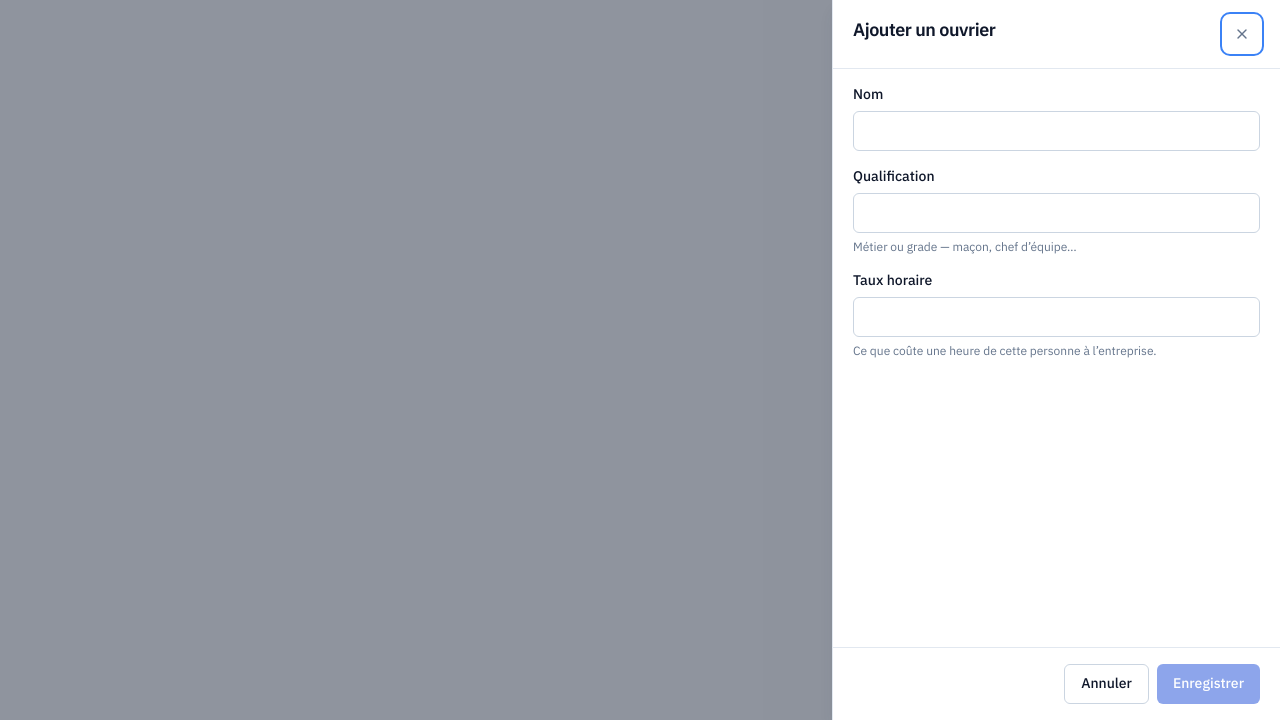
Test: WorkerDrawer, creating › reports a refusal without pretending it was something else
Type "Amina Cherif" into the field labelled "Nom".
click(1056, 131); type("Amina Cherif")  # box [853,111,1260,151]
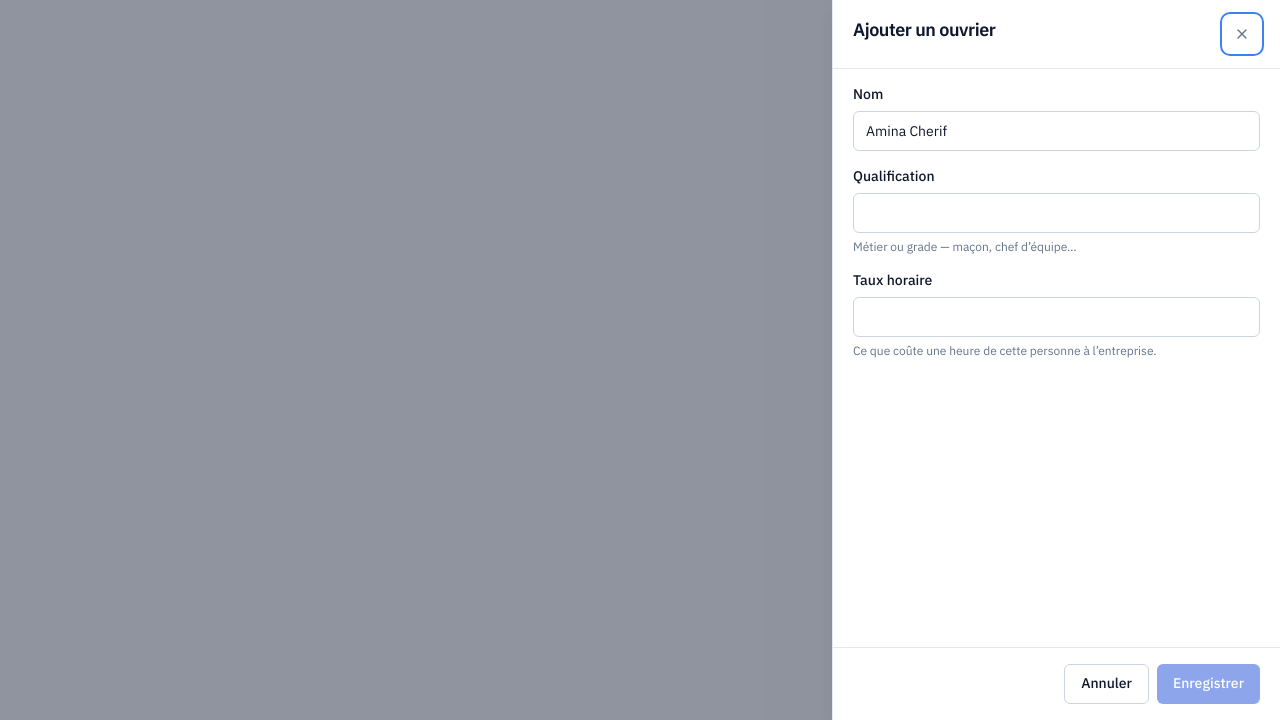
Type "16" into the number field labelled "Taux horaire".
click(1056, 317); type("16")  # box [853,297,1260,337]
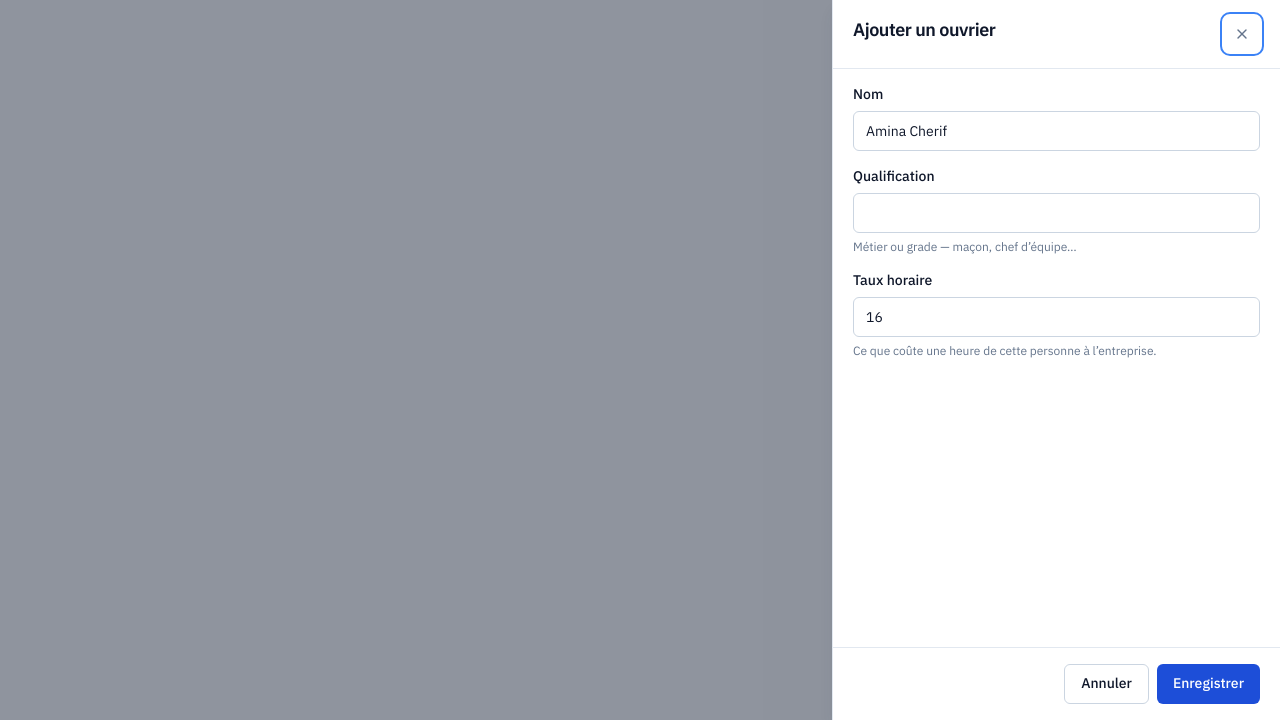
Click the button "Enregistrer".
click(1208, 684)  # box [1157,664,1260,704]
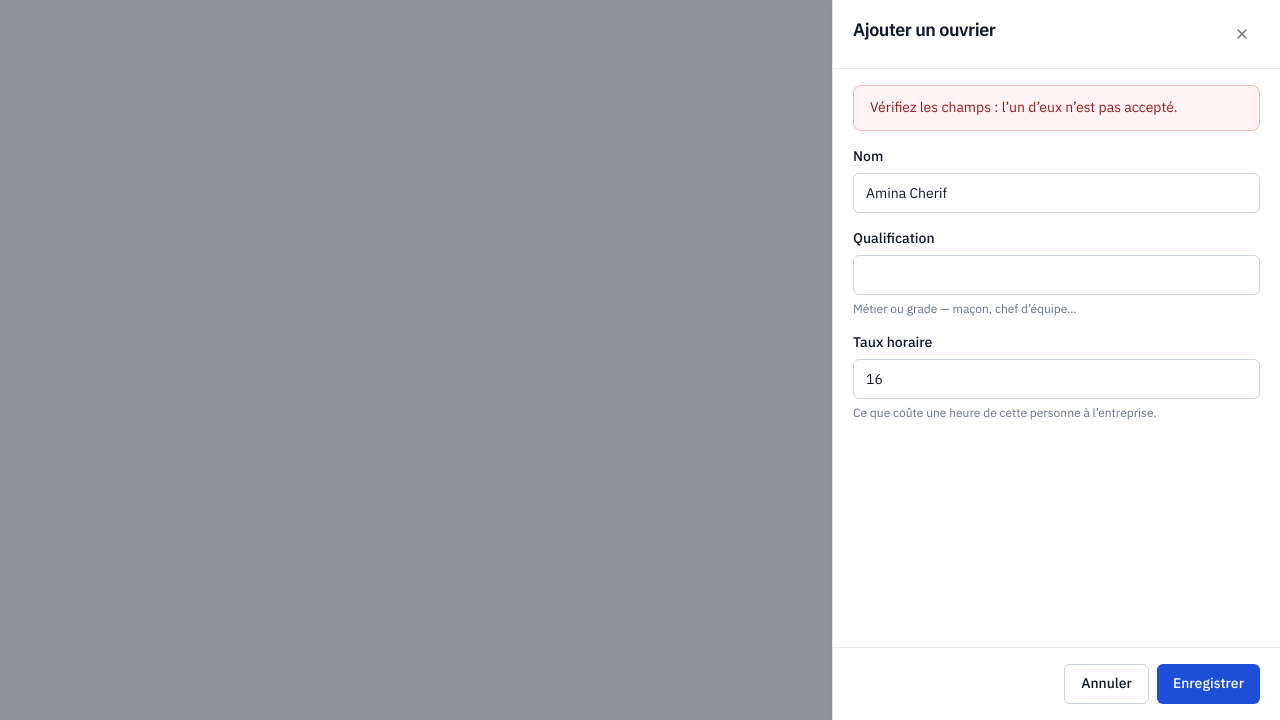
Check: the text "Vérifiez les champs : l’un d’eux n’est pas accepté." is shown, box [853,85,1260,131]
